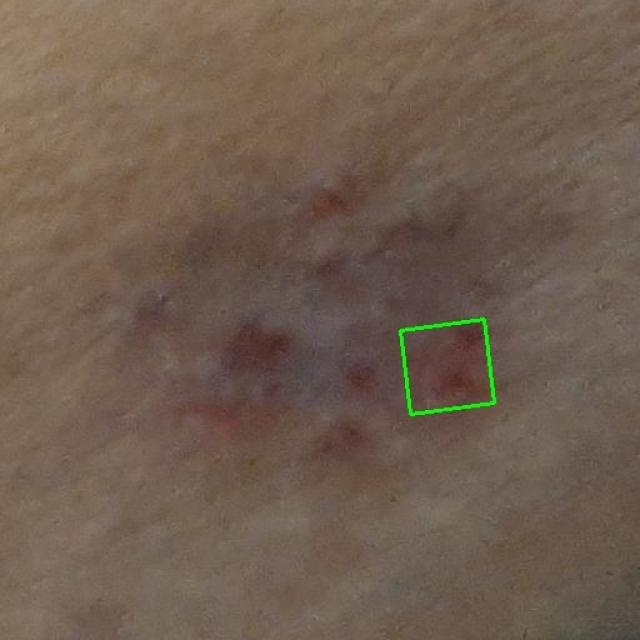Tinea Corporis: (401, 320, 495, 414)
